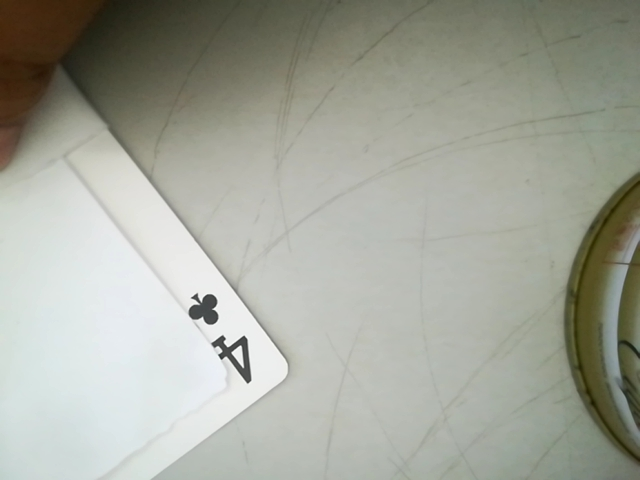mh 4: (167, 278, 270, 392)
